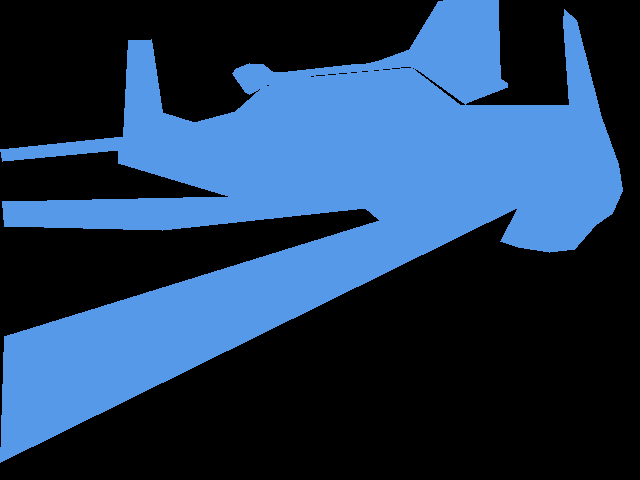Airplane: (0, 9, 622, 462), (232, 0, 507, 104)
